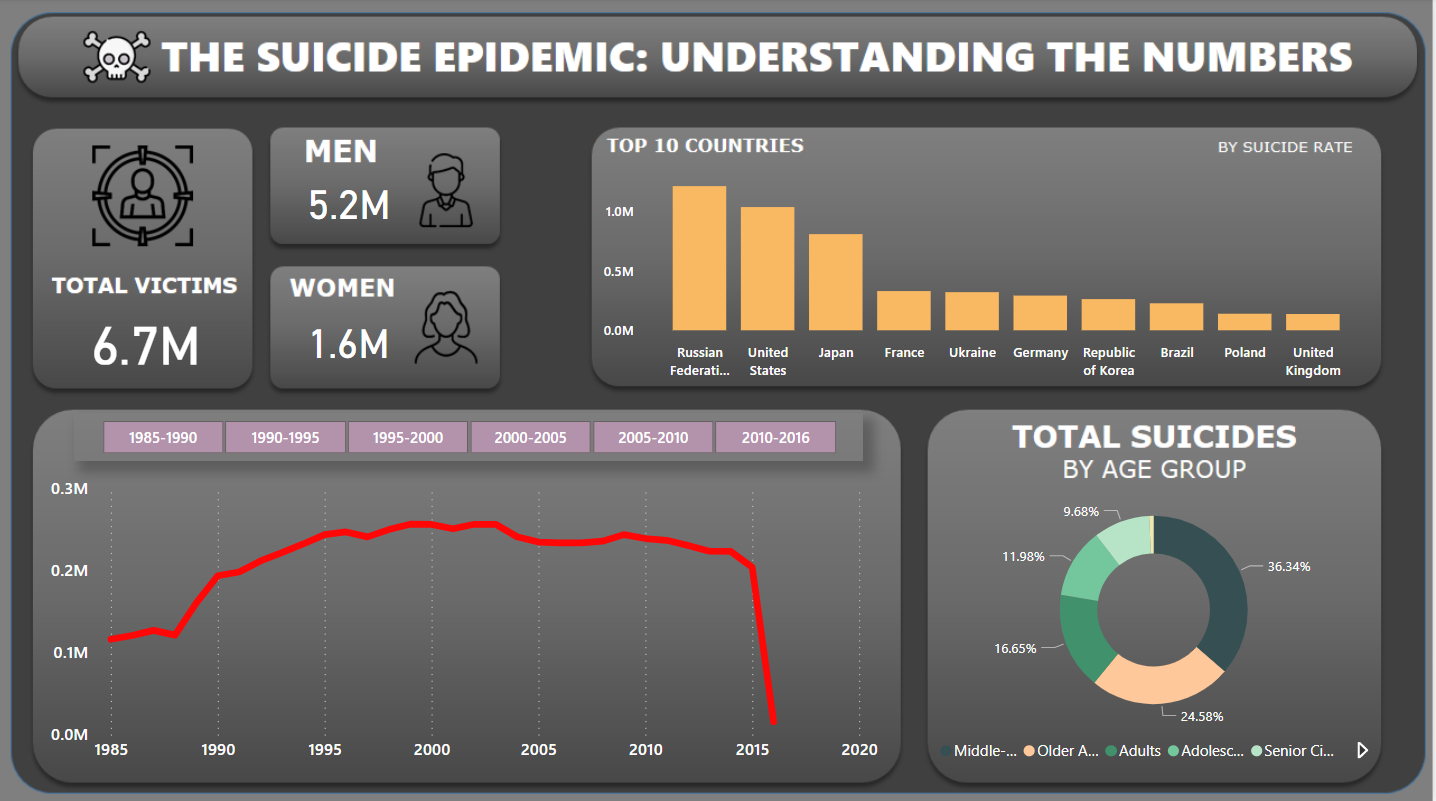

What the dashboard file says about the page in this screenshot:
{"tool":"powerbi","page":{"name":"main_exploration","canvas":[1280,720],"ordinal":0},"visuals":[{"type":"card","fields":{"Values":["All Measures.Total Victims"]},"box":[29.1,257,191.9,86],"z":0},{"type":"columnChart","fields":{"Y":["All Measures.Total Victims"],"Category":["master.country"]},"box":[534.9,125.6,690.7,217.4],"z":1000},{"type":"card","fields":{"Values":["All Measures.men"]},"box":[214,138.4,191.9,86],"z":2000},{"type":"card","fields":{"Values":["All Measures.female"]},"box":[212.8,266.3,191.9,86],"z":3000},{"type":"donutChart","fields":{"Y":["All Measures.Total Victims"],"Category":["master.age_group"]},"box":[836,432.6,389.5,258.1],"z":4000},{"type":"lineChart","fields":{"Y":["All Measures.Total Victims"],"Category":["master.year"]},"box":[39.5,423.3,750,277.9],"z":5000},{"type":"slicer","fields":{"Values":["master.year_group"]},"box":[79.1,369.8,672.1,53.5],"z":6000}]}

Visuals, with their boxes in screenshot pixels (x1, y1, x2, y2), scaled from the page's 1280x720 canvas onto the 1436x801 screenshot:
card - All Measures.Total Victims: locate(33, 286, 248, 382)
columnChart - All Measures.Total Victims x master.country: locate(600, 140, 1375, 382)
card - All Measures.men: locate(240, 154, 455, 250)
card - All Measures.female: locate(239, 296, 454, 392)
donutChart - All Measures.Total Victims x master.age_group: locate(938, 481, 1375, 768)
lineChart - All Measures.Total Victims x master.year: locate(44, 471, 886, 780)
slicer - master.year_group: locate(89, 411, 843, 471)
